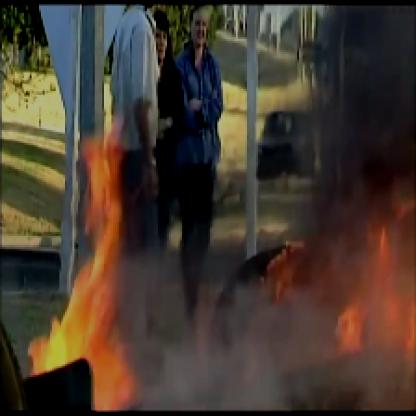Fire: (32, 132, 414, 410)
